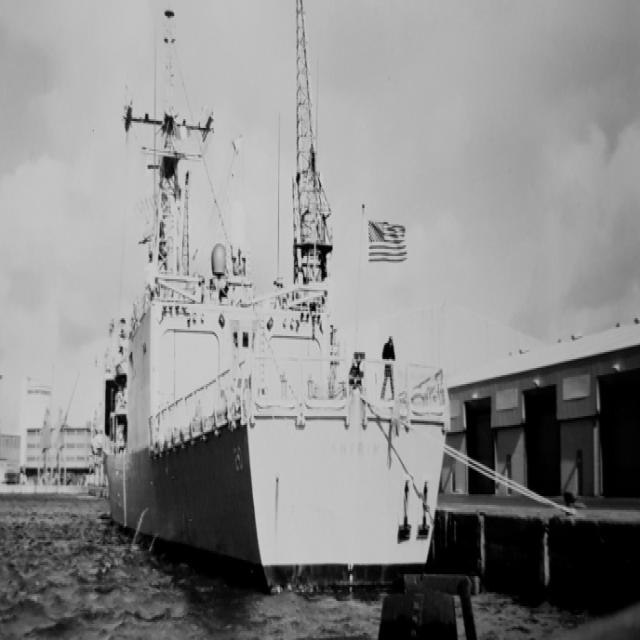Fragata: (93, 1, 462, 591)
